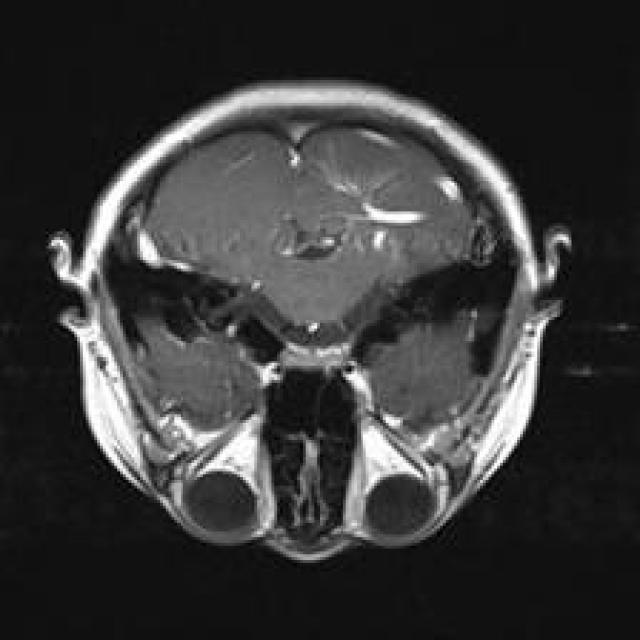no_tumor: (50, 74, 568, 569)
